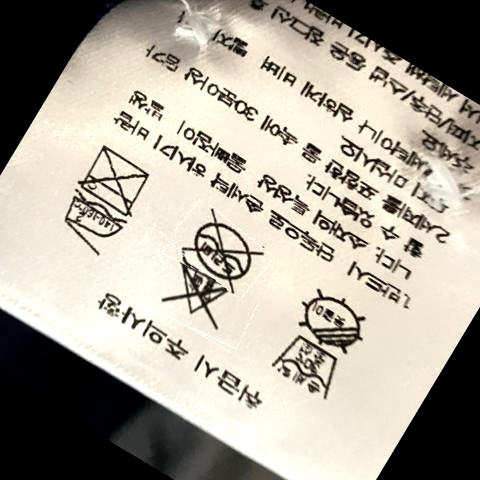DN_dry_clean: (192, 216, 262, 279)
DN_wash: (82, 151, 156, 205)
hand_wash: (272, 342, 343, 401)
iron_medium: (60, 200, 126, 250)
line_dry_in_shade: (299, 288, 372, 352)
non_chlorine_bleach: (171, 269, 237, 323)
